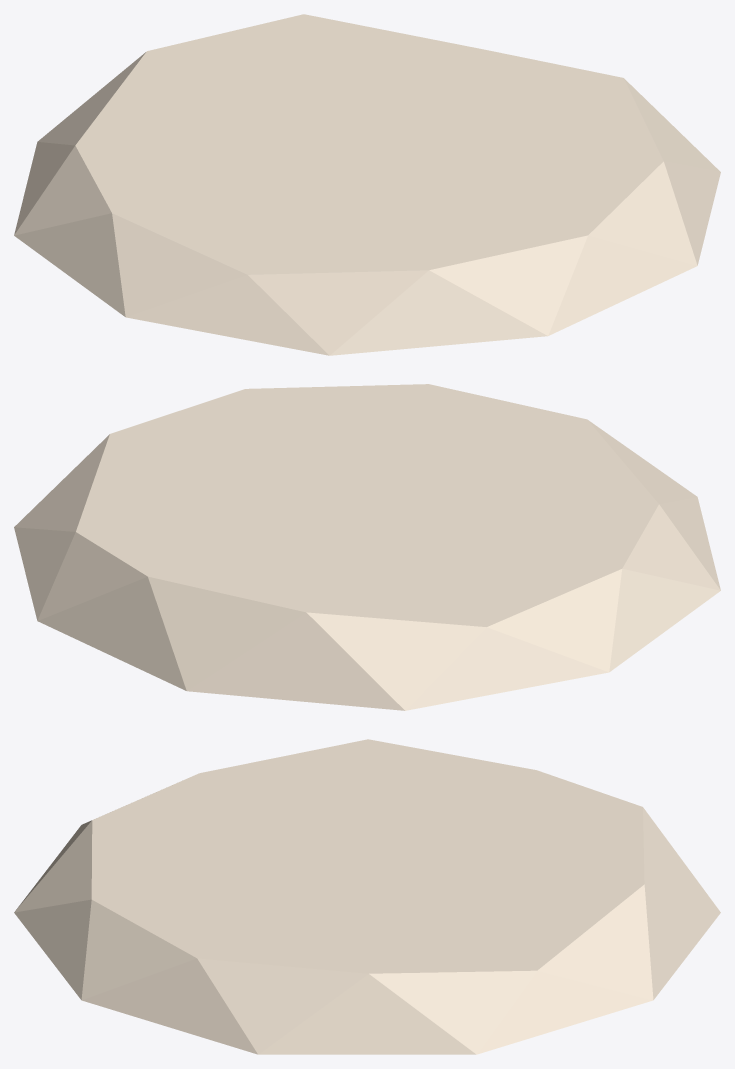
File: Dough Lump 3.fbx
3 renders of one model, top to bottom at view 1: azimuth 30°, elevation 25°; view 2: azimuth 150°, elevation 25°; view 3: azimuth 270°, elevation 25°, orthographic. The views are drawn at different scales.
Visible parts, largest first — view 1: Icosphere; view 2: Icosphere; view 3: Icosphere.
Part boxes in pixels (x1,y1,x2,y2): Icosphere: (14, 14, 720, 355); Icosphere: (14, 384, 720, 710); Icosphere: (14, 739, 720, 1054).
Bounding box in the file's own units: 190 × 21.1 × 200.
